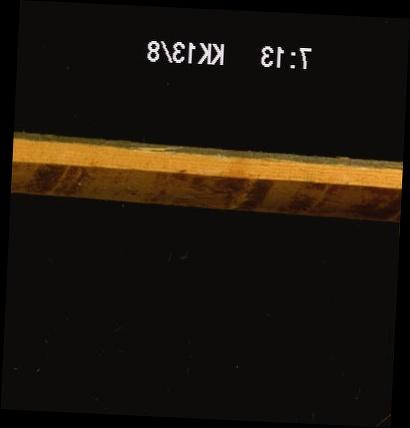wave: (10, 163, 401, 198)
